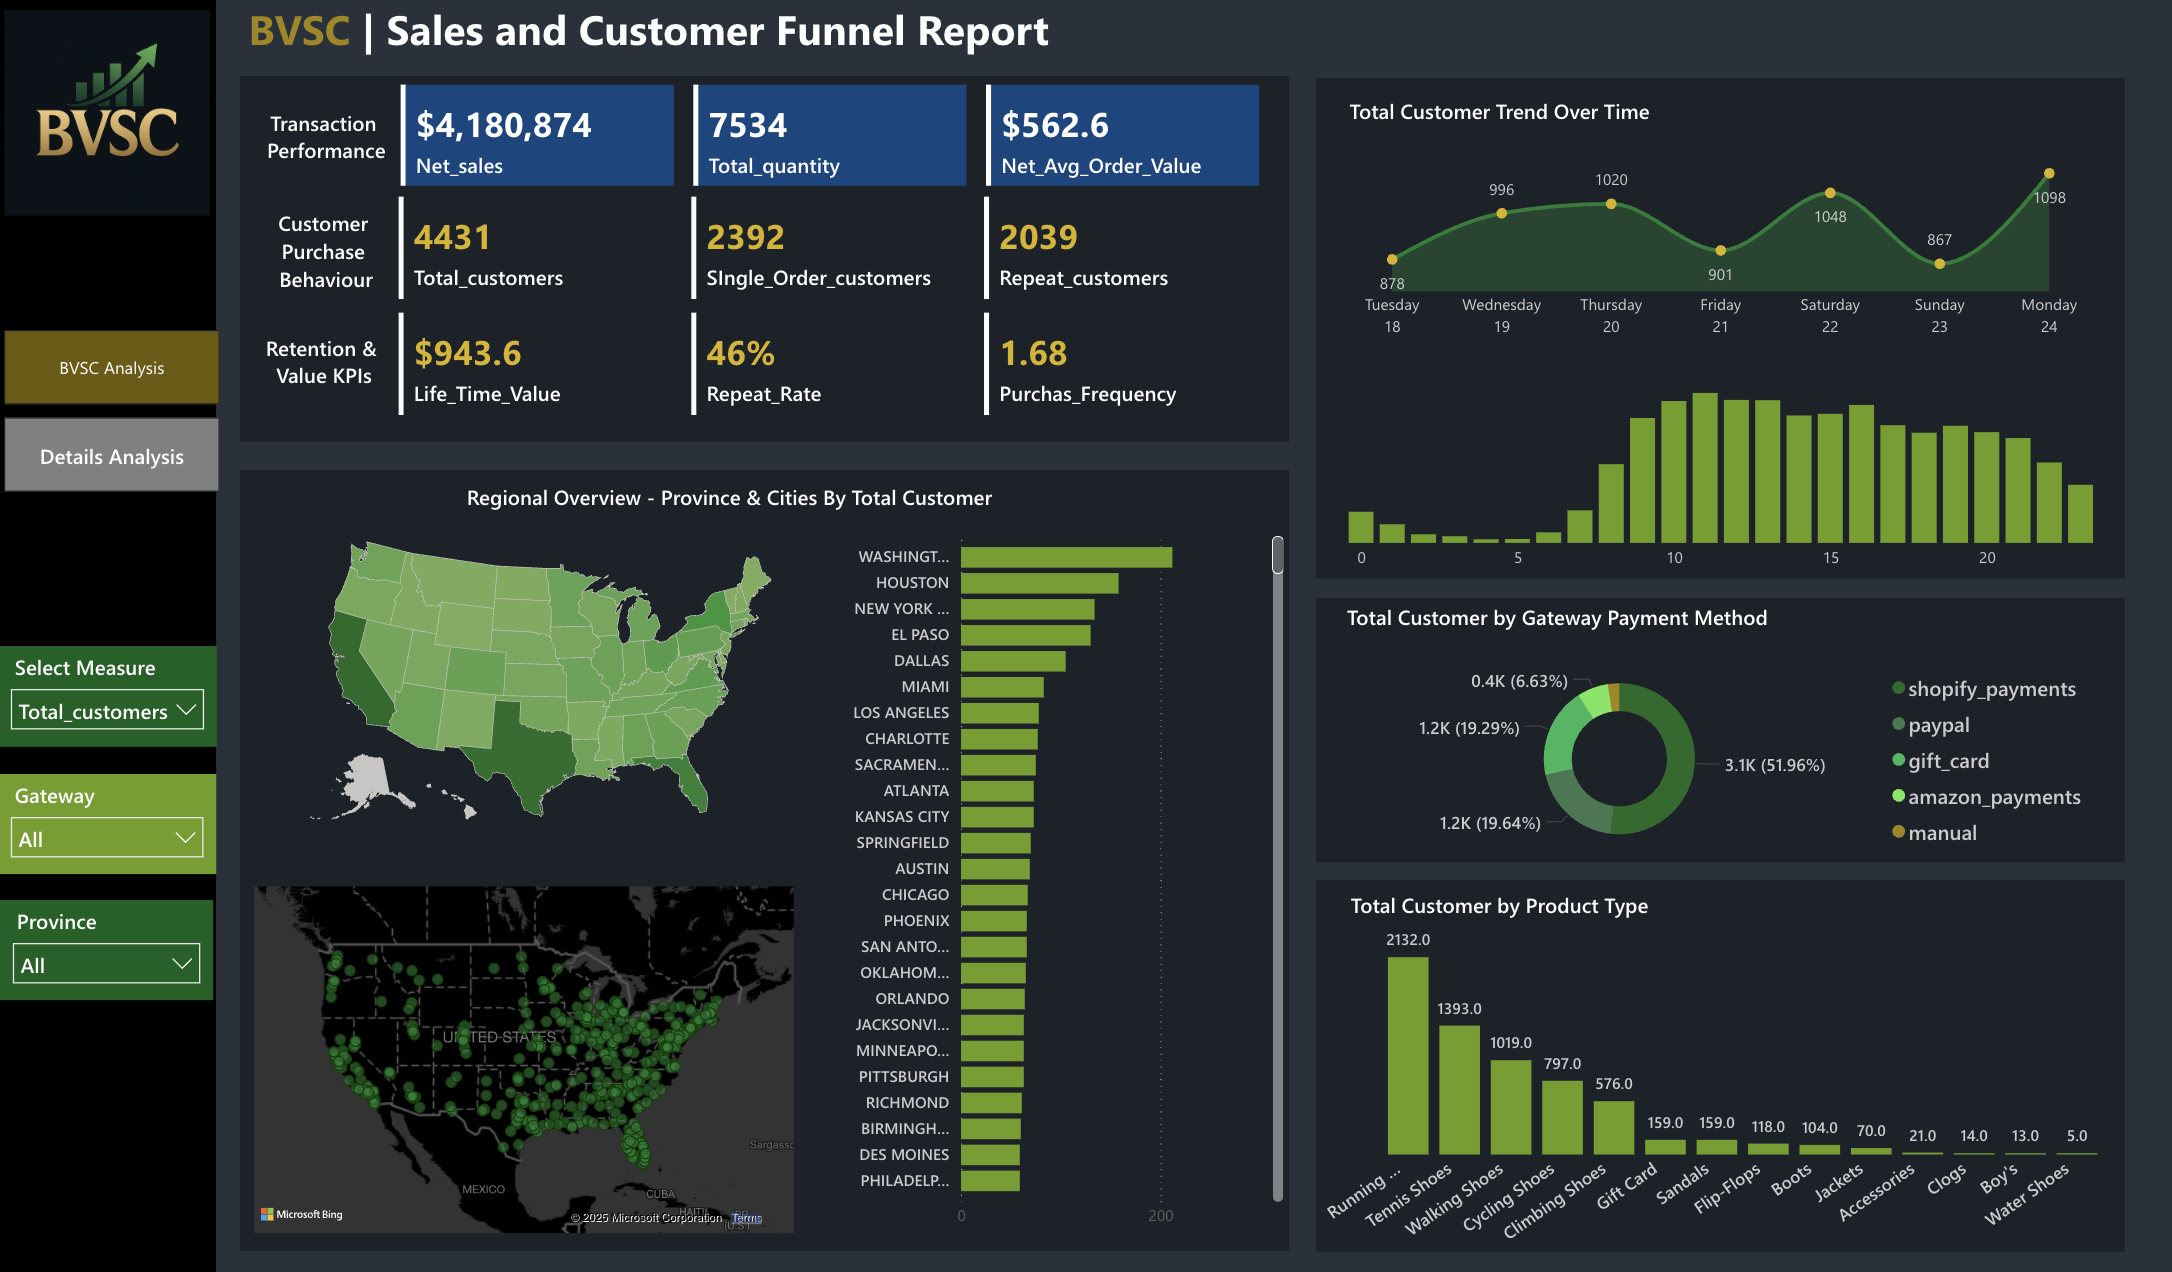

Layout of this report page (visuals, bound fields, positions):
{"tool":"powerbi","page":{"name":"BVSC Analysis","canvas":[1700,1000],"ordinal":0},"visuals":[{"type":"shape","box":[0,0,170,1000],"z":0},{"type":"textbox","box":[189.6,0,722.8,64.7],"z":1000},{"type":"shape","box":[188.8,64.3,817.3,285.1],"z":2000},{"type":"cardVisual","fields":{"Data":["shopify_sales.Net_sales","shopify_sales.Total_quantity","shopify_sales.Net_Avg_Order_Value"]},"box":[307.7,64.7,680.5,89.2],"z":3000},{"type":"card","fields":{"Values":["shopify_sales.Transaction Perf"]},"box":[169.6,66.9,171.8,87],"z":4000},{"type":"cardVisual","fields":{"Data":["shopify_sales.total_customers","shopify_sales.SIngle_Order_customers","shopify_sales.Repeat_customers"]},"box":[307.2,152.6,680.7,90.4],"z":5000},{"type":"card","fields":{"Values":["shopify_sales.purch_beha"]},"box":[178.7,152.6,152.6,88.3],"z":6000},{"type":"cardVisual","fields":{"Data":["shopify_sales.Life_Time_Value","shopify_sales.Repeat_Rate","shopify_sales.Purchas_Frequency"]},"box":[307.2,243,680.7,90.4],"z":7000},{"type":"card","fields":{"Values":["shopify_sales.Retention & Value KPIs"]},"box":[194.8,241,118.5,88.3],"z":8000},{"type":"shape","box":[188.8,371.5,817.3,608.4],"z":9000},{"type":"shapeMap","fields":{"Value":["shopify_sales.Total_customers"],"Category":["shopify_sales.Billing Address Province"]},"box":[194,410,456,250],"z":10000},{"type":"slicer","fields":{"Values":["Select Measure.Select Measure"]},"box":[0,507.3,170.7,78.3],"z":11000},{"type":"map","fields":{"Category":["shopify_sales.LOCATION"]},"box":[194,690,430,280],"z":12000},{"type":"clusteredBarChart","fields":{"Y":["shopify_sales.Total_customers"],"Category":["shopify_sales.CITY"]},"box":[648,410,358,560],"z":13000},{"type":"card","fields":{"Values":["shopify_sales.Map Title"]},"box":[342,366,454,56],"z":14000},{"type":"shape","box":[1026,66,630,390],"z":15000},{"type":"areaChart","fields":{"Y":["shopify_sales.Total_customers"],"Category":["shopify_sales.Invoice Date.Variation.Date Hierarchy.Day","shopify_sales.weekday"]},"box":[1046,122,590,160],"z":16000},{"type":"columnChart","fields":{"Y":["shopify_sales.Total_customers"],"Category":["shopify_sales.hour"]},"box":[1046,284,590,174],"z":17000},{"type":"card","fields":{"Values":["shopify_sales.Trend Title"]},"box":[1026,66,286,56],"z":18000},{"type":"shape","box":[1026,470,630,206],"z":19000},{"type":"donutChart","fields":{"Y":["shopify_sales.Total_customers"],"Category":["shopify_sales.Gateway"]},"box":[1046,516,590,160],"z":20000},{"type":"card","fields":{"Values":["Select Measure.gateway_title"]},"box":[1026,460,376,56],"z":21000},{"type":"shape","box":[1026,690,630,290],"z":22000},{"type":"columnChart","fields":{"Y":["shopify_sales.Total_customers"],"Category":["shopify_sales.Product Type"]},"box":[1026,712,630,278],"z":23000},{"type":"card","fields":{"Values":["shopify_sales.product_titel"]},"box":[1026,684,286,56],"z":24000},{"type":"slicer","fields":{"Values":["shopify_sales.Gateway"]},"box":[0,606.8,170,78],"z":25000},{"type":"slicer","fields":{"Values":["shopify_sales.Billing Address Province"]},"box":[2,706,166,78],"z":26000},{"type":"pageNavigator","box":[4,262,168,126],"z":26001},{"type":"image","box":[0,2,170,182],"z":26002}]}

Visuals, with their boxes on the page's 1700x1000 design canvas (x1, y1, x2, y2). These are canvas units, not pixel positions in the 2172x1272 screenshot, which may show the page scaled, cropped or inside an application window:
shape: [x1=0, y1=0, x2=170, y2=1000]
textbox: [x1=190, y1=0, x2=912, y2=65]
shape: [x1=189, y1=64, x2=1006, y2=349]
cardVisual - shopify_sales.Net_sales x shopify_sales.Total_quantity: [x1=308, y1=65, x2=988, y2=154]
card - shopify_sales.Transaction Perf: [x1=170, y1=67, x2=341, y2=154]
cardVisual - shopify_sales.total_customers x shopify_sales.SIngle_Order_customers: [x1=307, y1=153, x2=988, y2=243]
card - shopify_sales.purch_beha: [x1=179, y1=153, x2=331, y2=241]
cardVisual - shopify_sales.Life_Time_Value x shopify_sales.Repeat_Rate: [x1=307, y1=243, x2=988, y2=333]
card - shopify_sales.Retention & Value KPIs: [x1=195, y1=241, x2=313, y2=329]
shape: [x1=189, y1=372, x2=1006, y2=980]
shapeMap - shopify_sales.Total_customers x shopify_sales.Billing Address Province: [x1=194, y1=410, x2=650, y2=660]
slicer - Select Measure.Select Measure: [x1=0, y1=507, x2=171, y2=586]
map - shopify_sales.LOCATION: [x1=194, y1=690, x2=624, y2=970]
clusteredBarChart - shopify_sales.Total_customers x shopify_sales.CITY: [x1=648, y1=410, x2=1006, y2=970]
card - shopify_sales.Map Title: [x1=342, y1=366, x2=796, y2=422]
shape: [x1=1026, y1=66, x2=1656, y2=456]
areaChart - shopify_sales.Total_customers x shopify_sales.Invoice Date.Variation.Date Hierarchy.Day: [x1=1046, y1=122, x2=1636, y2=282]
columnChart - shopify_sales.Total_customers x shopify_sales.hour: [x1=1046, y1=284, x2=1636, y2=458]
card - shopify_sales.Trend Title: [x1=1026, y1=66, x2=1312, y2=122]
shape: [x1=1026, y1=470, x2=1656, y2=676]
donutChart - shopify_sales.Total_customers x shopify_sales.Gateway: [x1=1046, y1=516, x2=1636, y2=676]
card - Select Measure.gateway_title: [x1=1026, y1=460, x2=1402, y2=516]
shape: [x1=1026, y1=690, x2=1656, y2=980]
columnChart - shopify_sales.Total_customers x shopify_sales.Product Type: [x1=1026, y1=712, x2=1656, y2=990]
card - shopify_sales.product_titel: [x1=1026, y1=684, x2=1312, y2=740]
slicer - shopify_sales.Gateway: [x1=0, y1=607, x2=170, y2=685]
slicer - shopify_sales.Billing Address Province: [x1=2, y1=706, x2=168, y2=784]
pageNavigator: [x1=4, y1=262, x2=172, y2=388]
image: [x1=0, y1=2, x2=170, y2=184]
